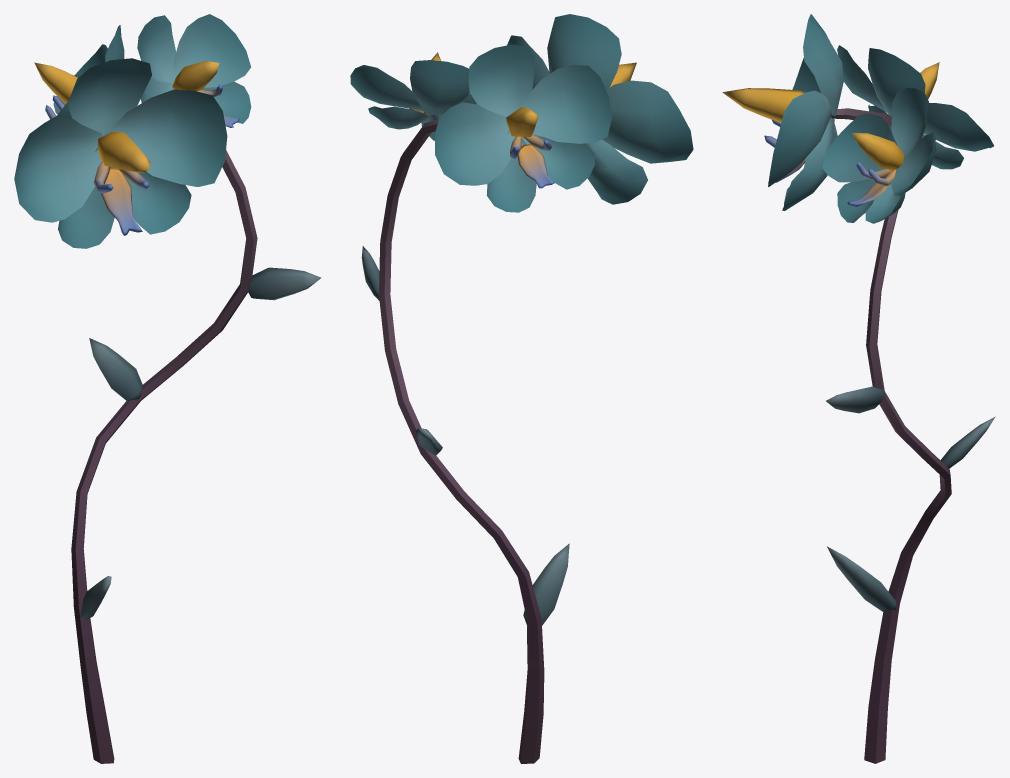
The model's file is OBJ_StormbloomOrchid.fbx.
3 views of the same model, side by side, from view 1: azimuth 30°, elevation 25°; view 2: azimuth 150°, elevation 25°; view 3: azimuth 270°, elevation 25° (orthographic).
Parts seen in each view (by area): view 1: OBJ_StormbloomOrchid; view 2: OBJ_StormbloomOrchid; view 3: OBJ_StormbloomOrchid.
Boxes of the visible parts, <box> form: OBJ_StormbloomOrchid: <box>14,14,321,763</box>; OBJ_StormbloomOrchid: <box>350,14,693,763</box>; OBJ_StormbloomOrchid: <box>722,14,995,763</box>.
Bounding box in the file's own units: 55.24 × 121 × 41.38.
